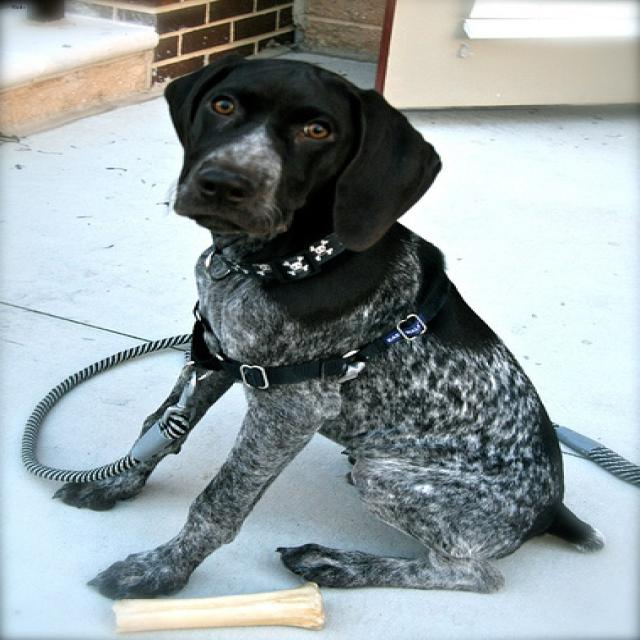dog-german_shorthaired: (29, 49, 625, 605)
